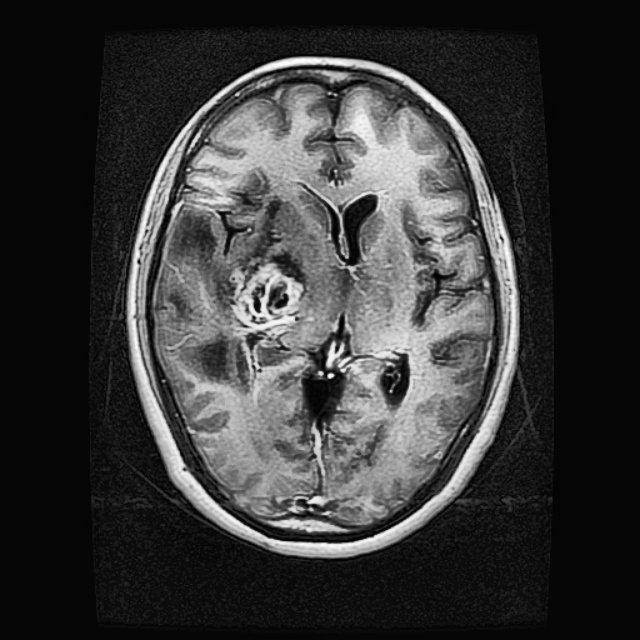Glioma: (225, 254, 307, 330)
